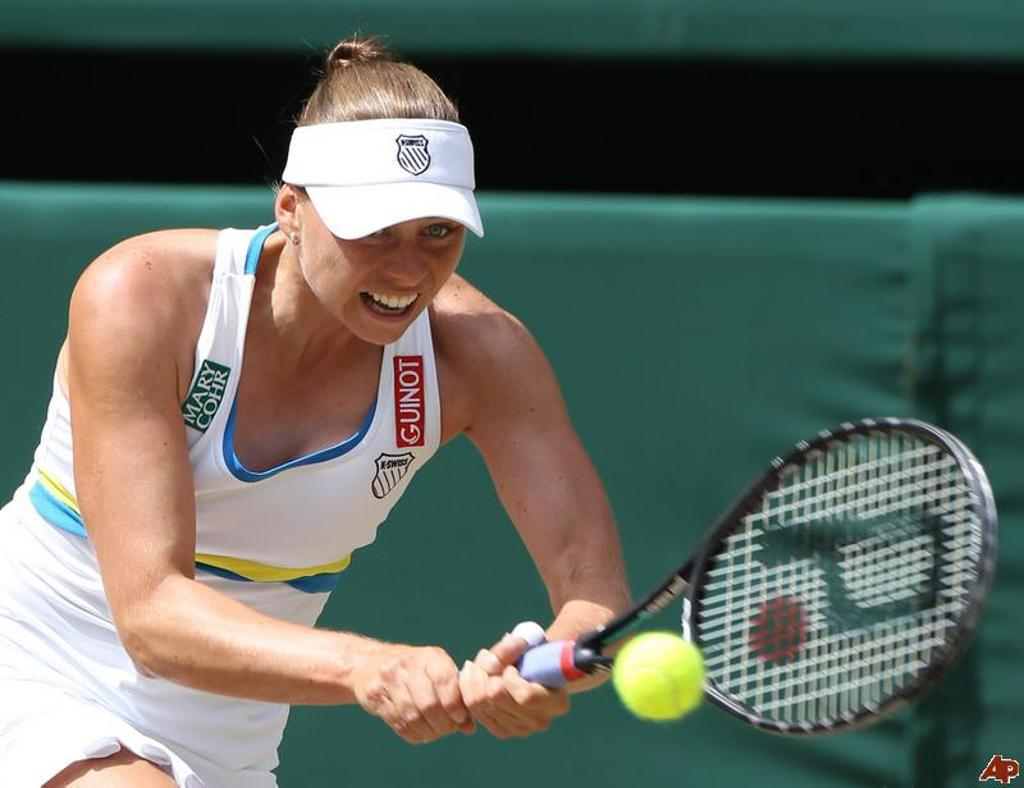face: (305, 183, 463, 347)
